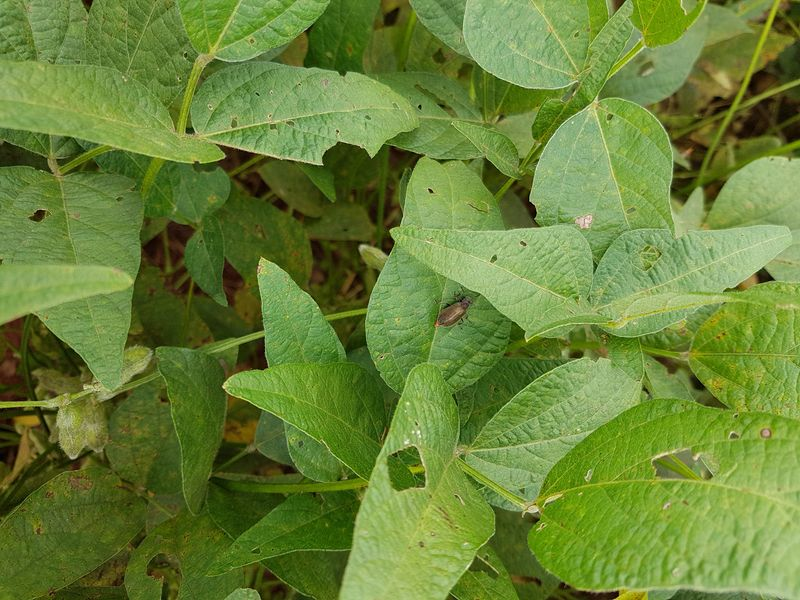Lagria_villosa: (428, 281, 483, 337)
